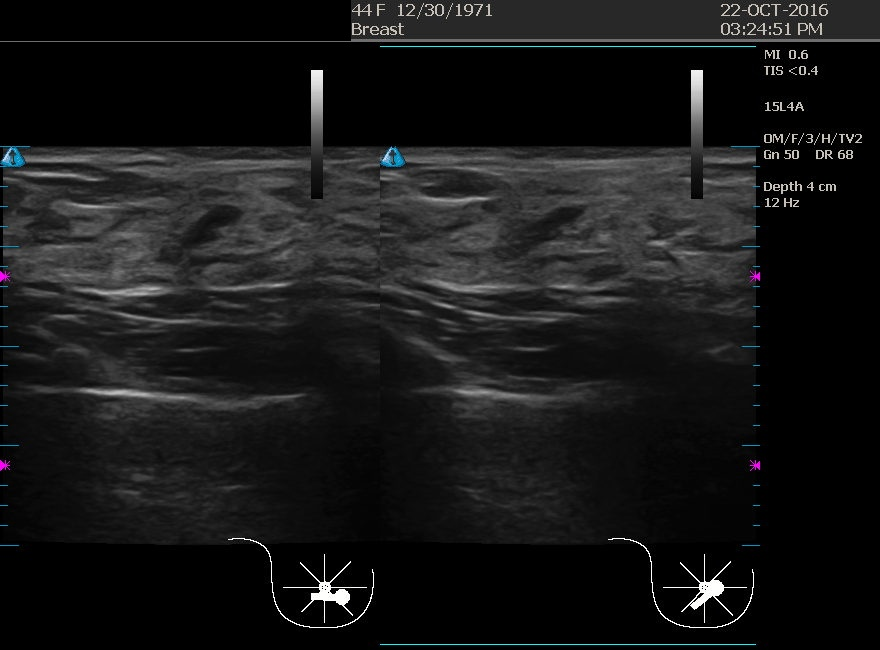BIRADS_2: (106, 152, 306, 352), (411, 148, 611, 348)
